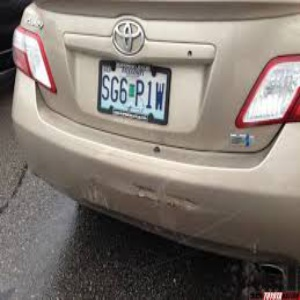bumper_scratch: (82, 173, 237, 241)
